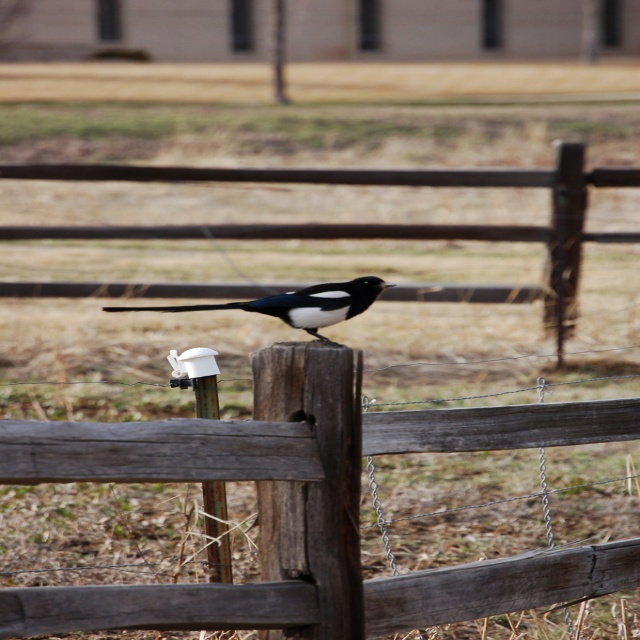Magpie: (99, 275, 399, 345)
